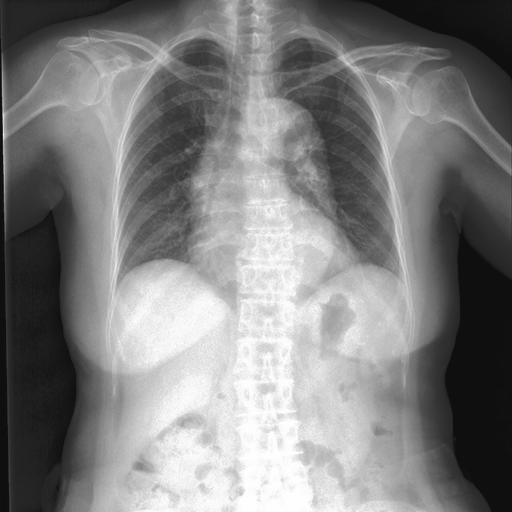Consolidation: (178, 84, 336, 191)
Nodule/Mass: (172, 204, 372, 279)
